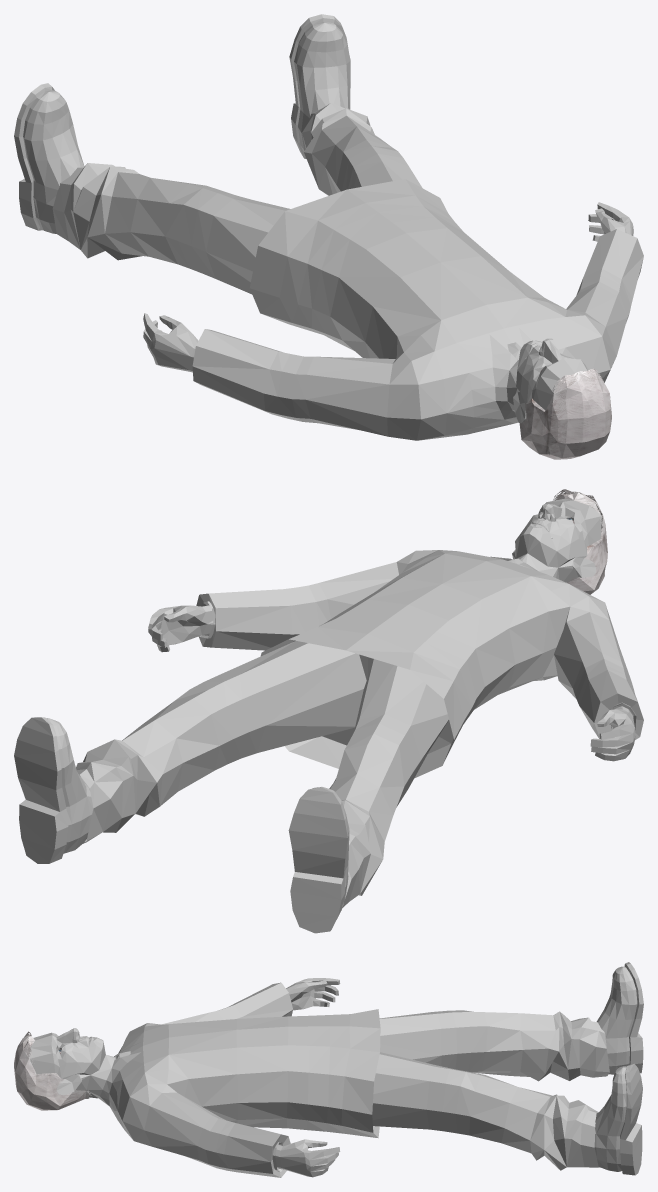
File: nielsen.fbx
The picture shows the model from 3 angles, top to bottom: view 1: azimuth 30°, elevation 25°; view 2: azimuth 150°, elevation 25°; view 3: azimuth 270°, elevation 25°; orthographic projection. The views are drawn at different scales.
Parts seen in each view (by area): view 1: body, shoes, head_hair, head, arms; view 2: body, shoes, head, arms, head_hair; view 3: body, shoes, head, arms, head_hair.
Boxes of the visible parts, left/top/right/bottom form: body: left=52, top=103, right=643, bottom=440; shoes: left=14, top=14, right=350, bottom=233; head_hair: left=519, top=368, right=611, bottom=459; head: left=506, top=338, right=590, bottom=423; arms: left=143, top=202, right=633, bottom=372; body: left=76, top=550, right=643, bottom=908; shoes: left=14, top=717, right=349, bottom=933; head: left=512, top=498, right=601, bottom=582; arms: left=148, top=605, right=635, bottom=761; head_hair: left=553, top=489, right=607, bottom=594; body: left=99, top=982, right=609, bottom=1177; shoes: left=594, top=962, right=643, bottom=1175; head: left=29, top=1028, right=114, bottom=1098; arms: left=275, top=978, right=340, bottom=1177; head_hair: left=14, top=1031, right=91, bottom=1110.
Size of the model in its own units: 42.84 by 12.4 by 64.44.
